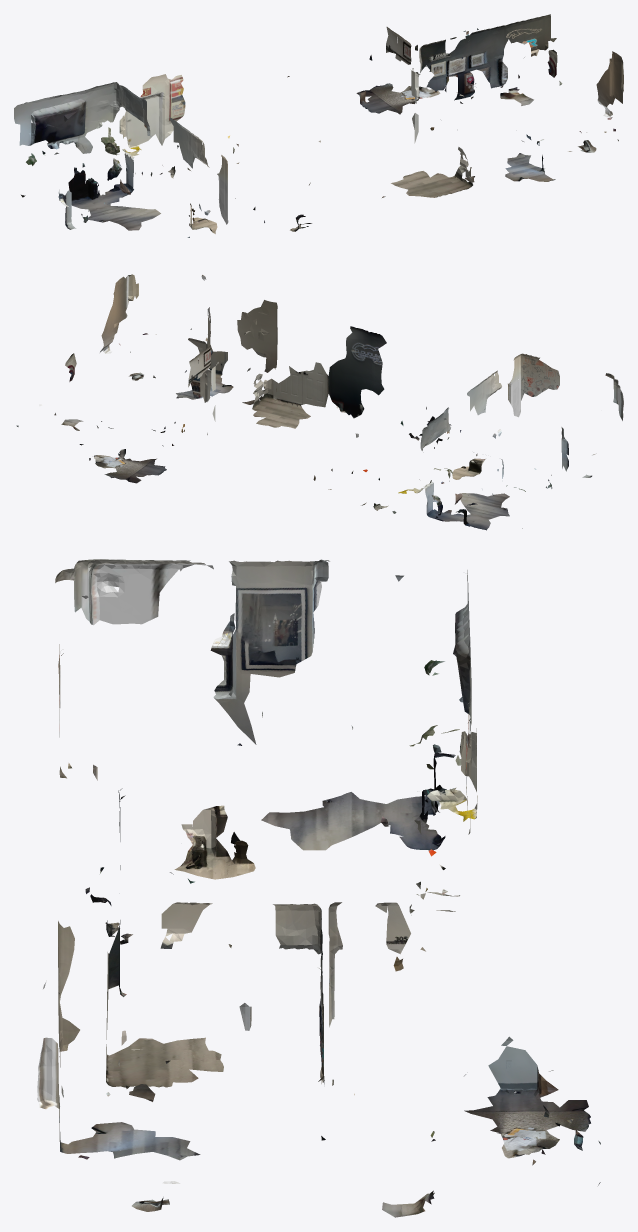
3 views of the same model, one above another, from view 1: azimuth 30°, elevation 25°; view 2: azimuth 150°, elevation 25°; view 3: azimuth 270°, elevation 25° (orthographic). The views are drawn at different scales.
Visible parts, largest first — view 1: Mesh_1; view 2: Mesh_1; view 3: Mesh_1.
Boxes of the visible parts, box(x1,y1,x2,y2) form: Mesh_1: box(14, 14, 623, 237); Mesh_1: box(16, 274, 623, 530); Mesh_1: box(37, 559, 600, 1217).
Size of the model in its own units: 14.92 by 2.77 by 7.24.
Materials: 1 (1 with a texture image).
